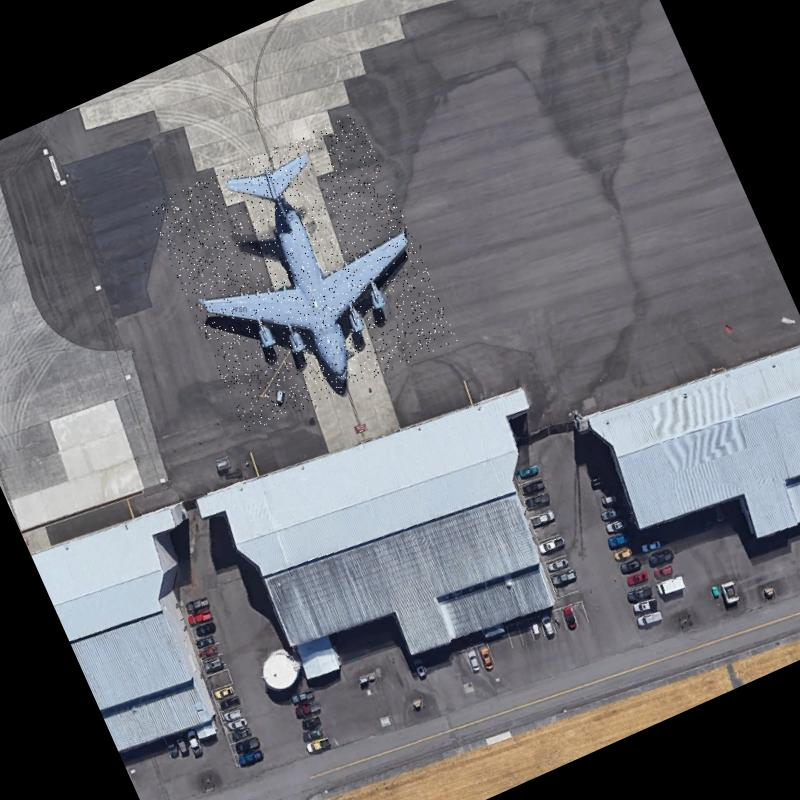A3: (144, 110, 458, 435)
